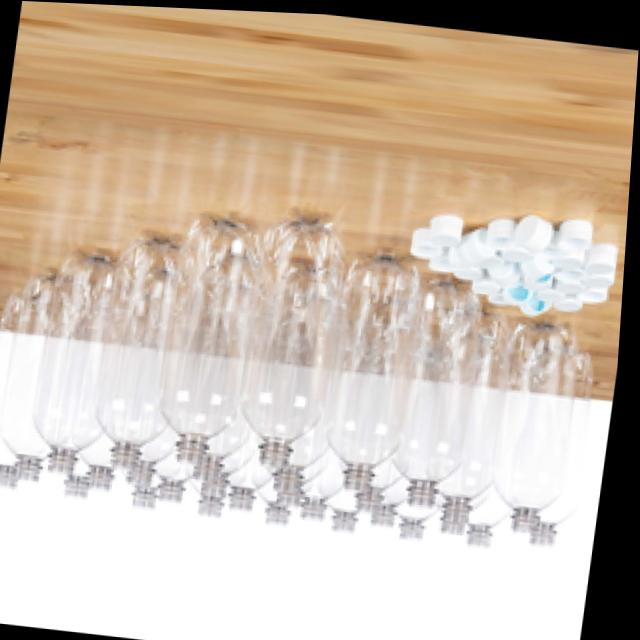plastic_water_bottles: (237, 214, 354, 469), (158, 215, 268, 474), (321, 250, 431, 493), (487, 311, 591, 535), (96, 230, 192, 471), (393, 273, 491, 507), (36, 248, 130, 473), (4, 273, 77, 486), (536, 341, 607, 544), (0, 290, 45, 491)
